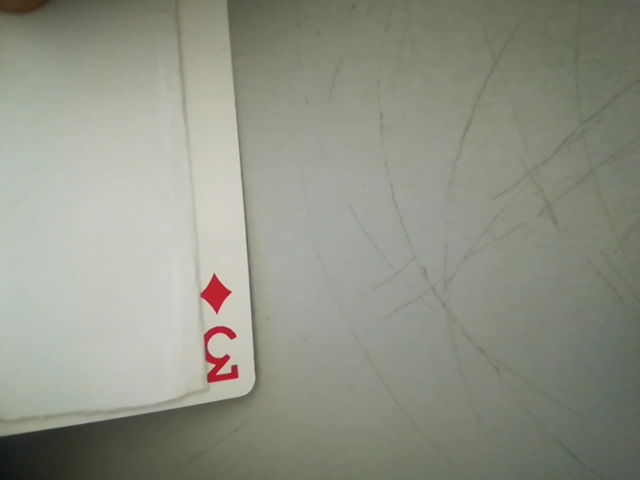fk 3: (185, 272, 254, 397)
